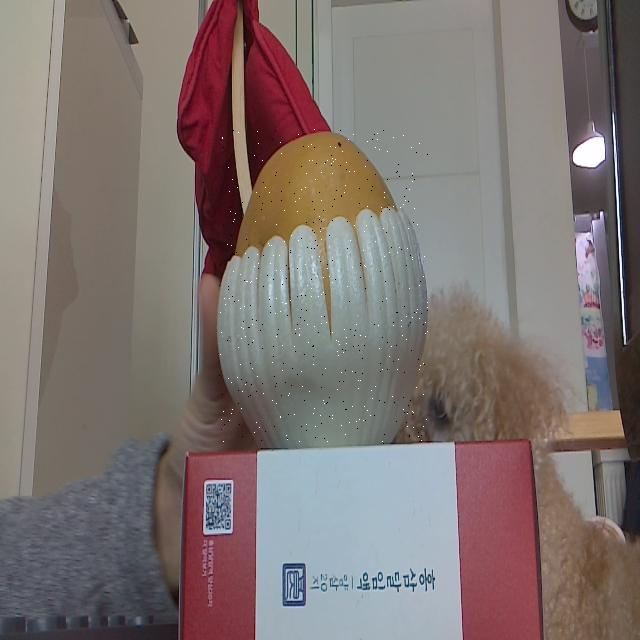pear: (218, 129, 428, 445)
